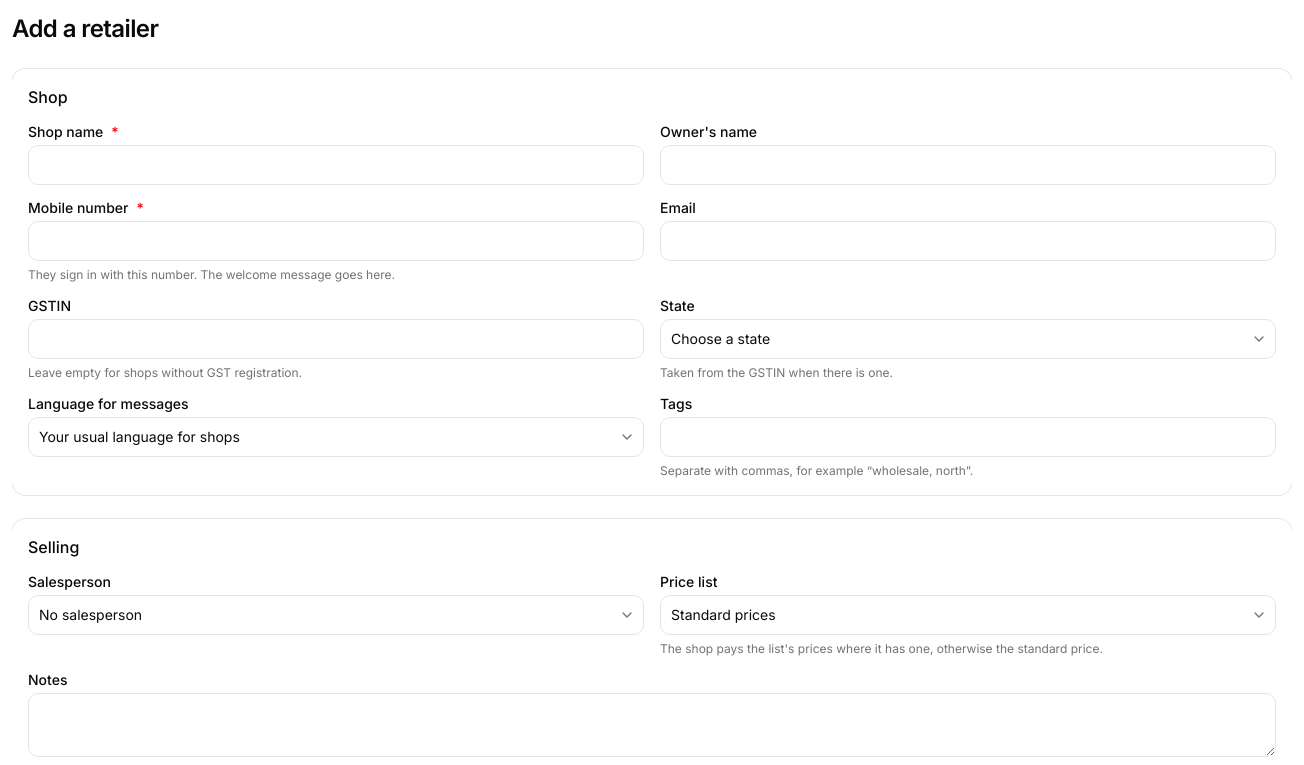
Test: Retailer form › creates a shop with its billing address and shows the server's GSTIN error
This screenshot has width=1304, height=765.
Type "Ganesh Kirana" into the field labelled "Shop name *" at (336, 165), box [28,145,644,185]
Type "98765 00001" into the field labelled "Mobile number *" at (336, 241), box [28,221,644,261]
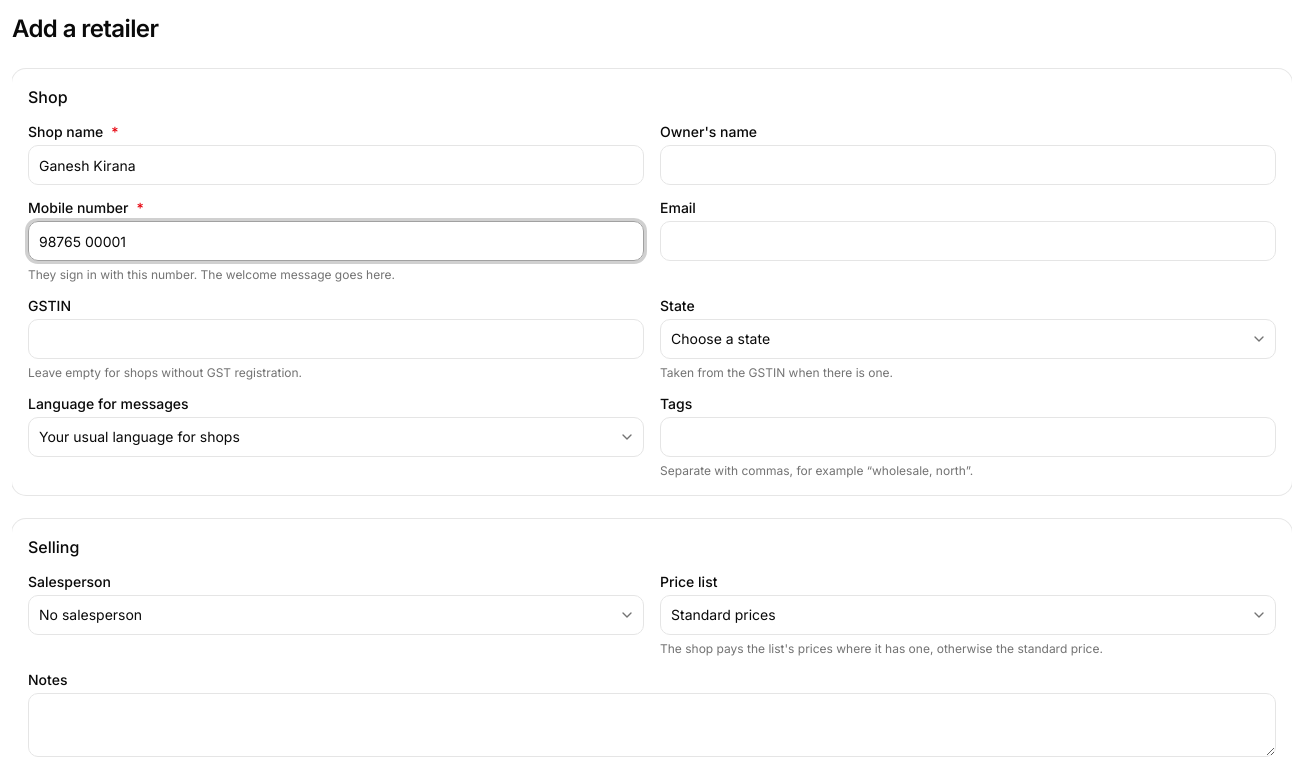
Type "27aapfu0939f1zv" into the field labelled "GSTIN" at (336, 339), box [28,319,644,359]
(page scrolled)
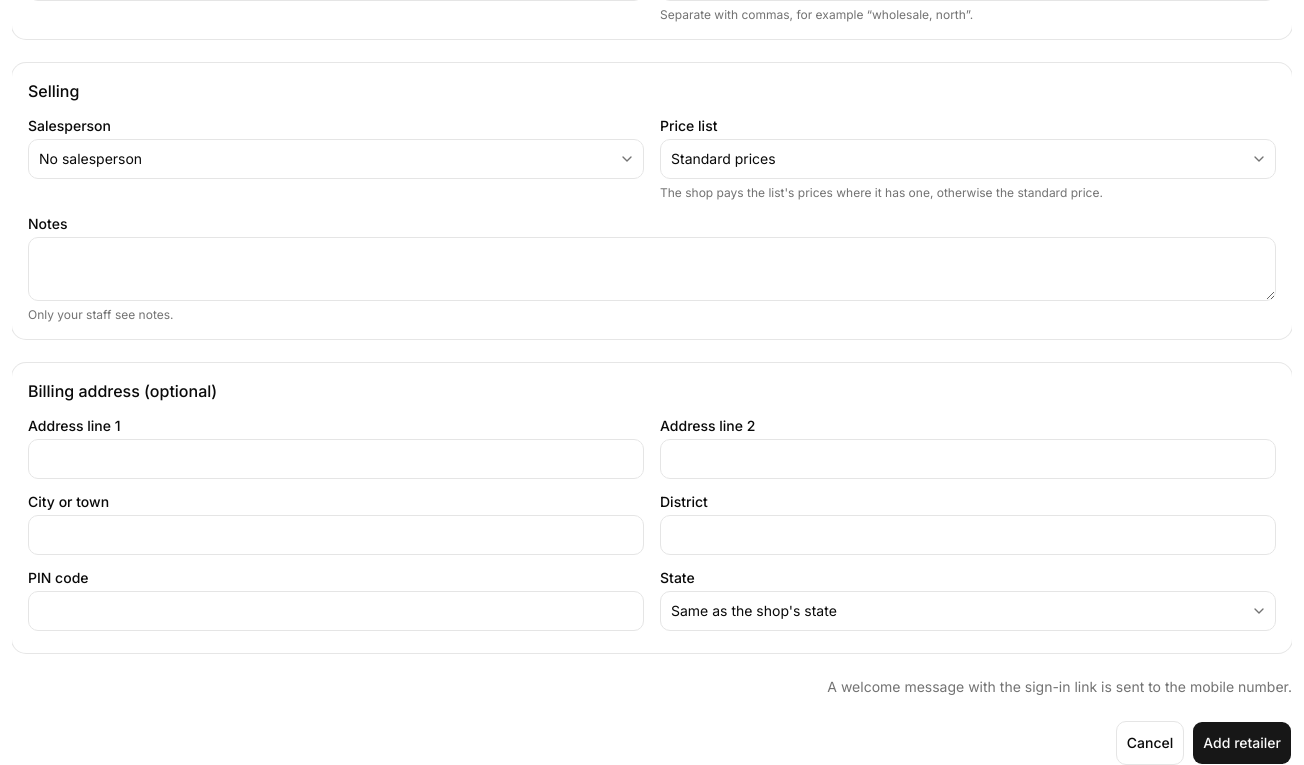
Type "Shop 4, Market Road" into the field labelled "Address line 1" at (336, 459), box [28,439,644,479]
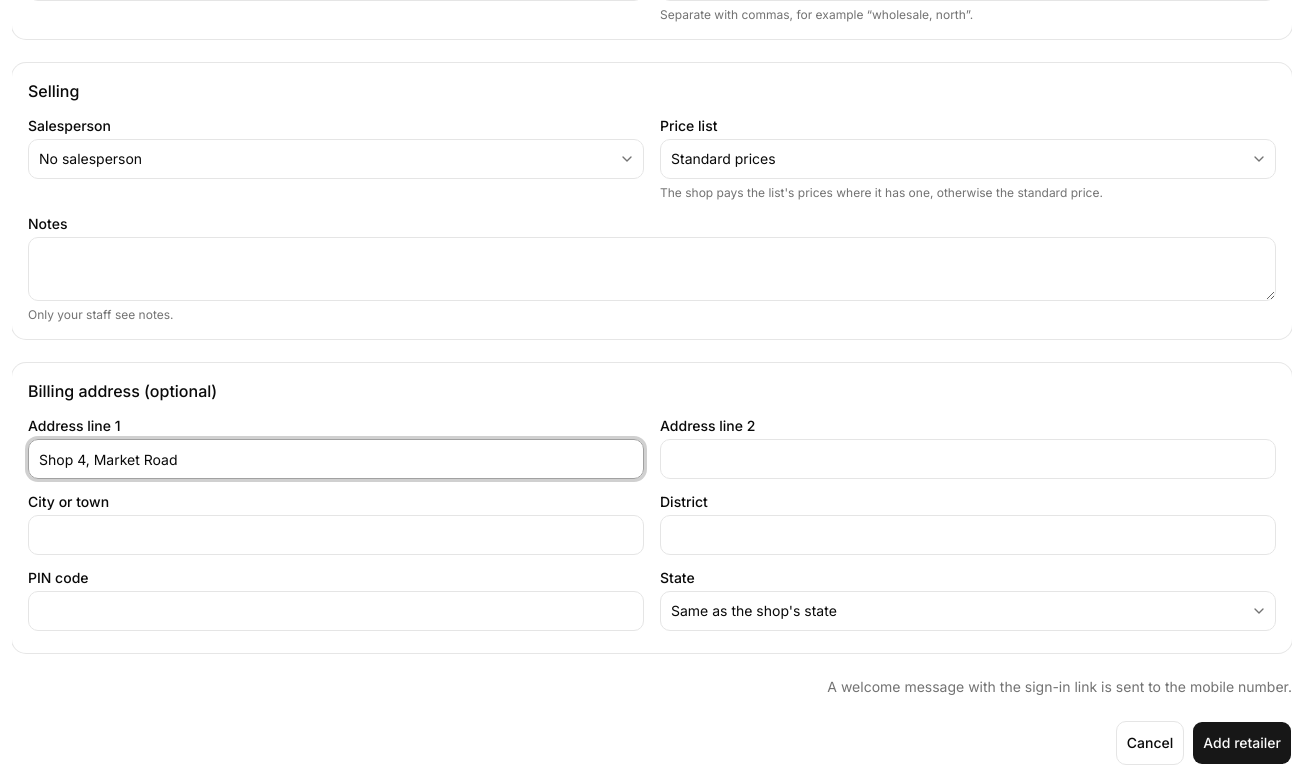
Type "Pune" into the field labelled "City or town" at (336, 535), box [28,515,644,555]
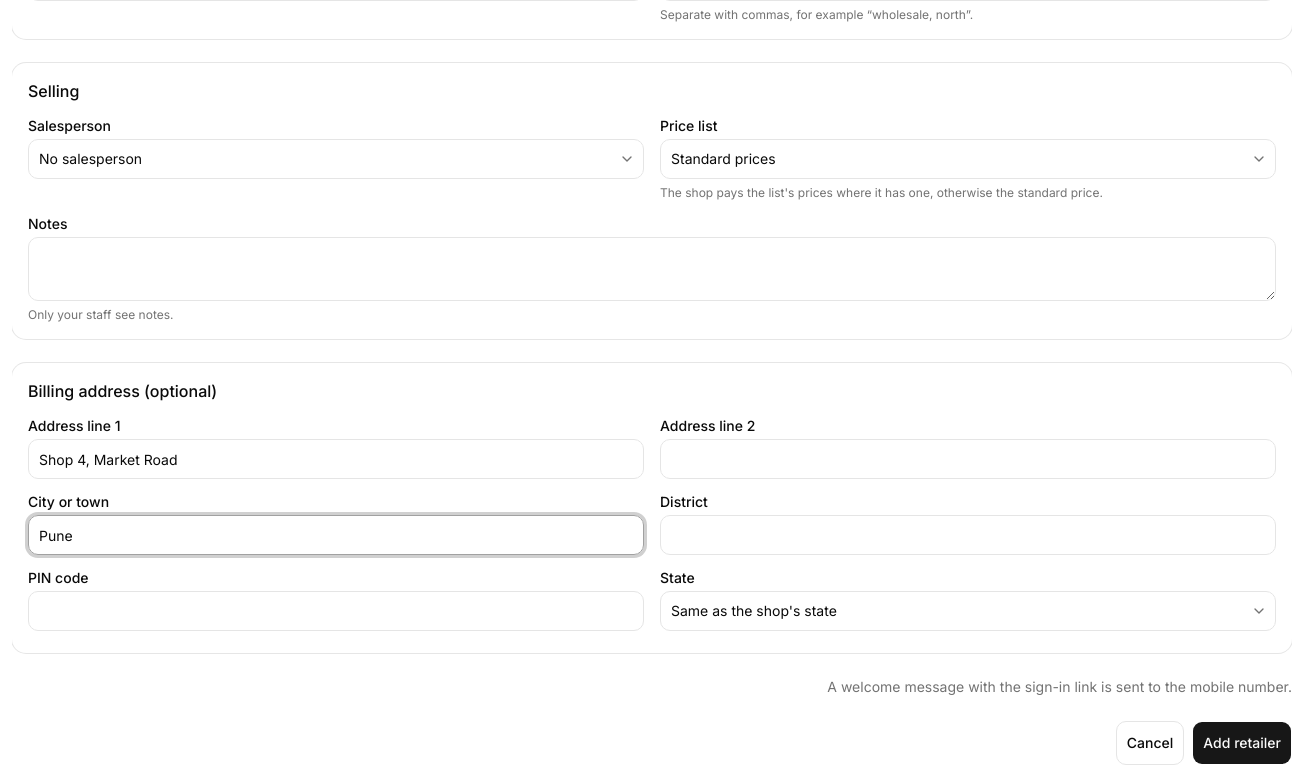
Type "411001" into the field labelled "PIN code" at (336, 611), box [28,591,644,631]
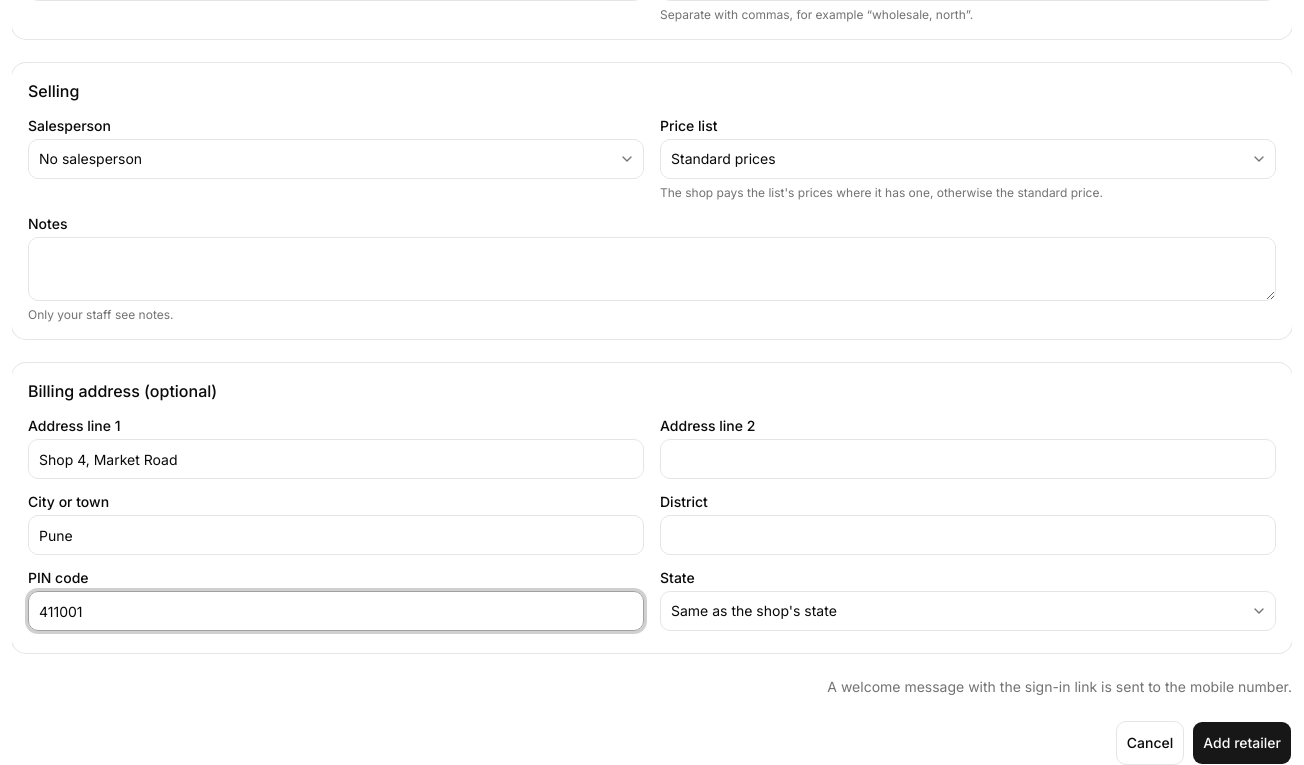
Click the button "Add retailer" at (1242, 743), box [1192,721,1292,764]
(page scrolled)
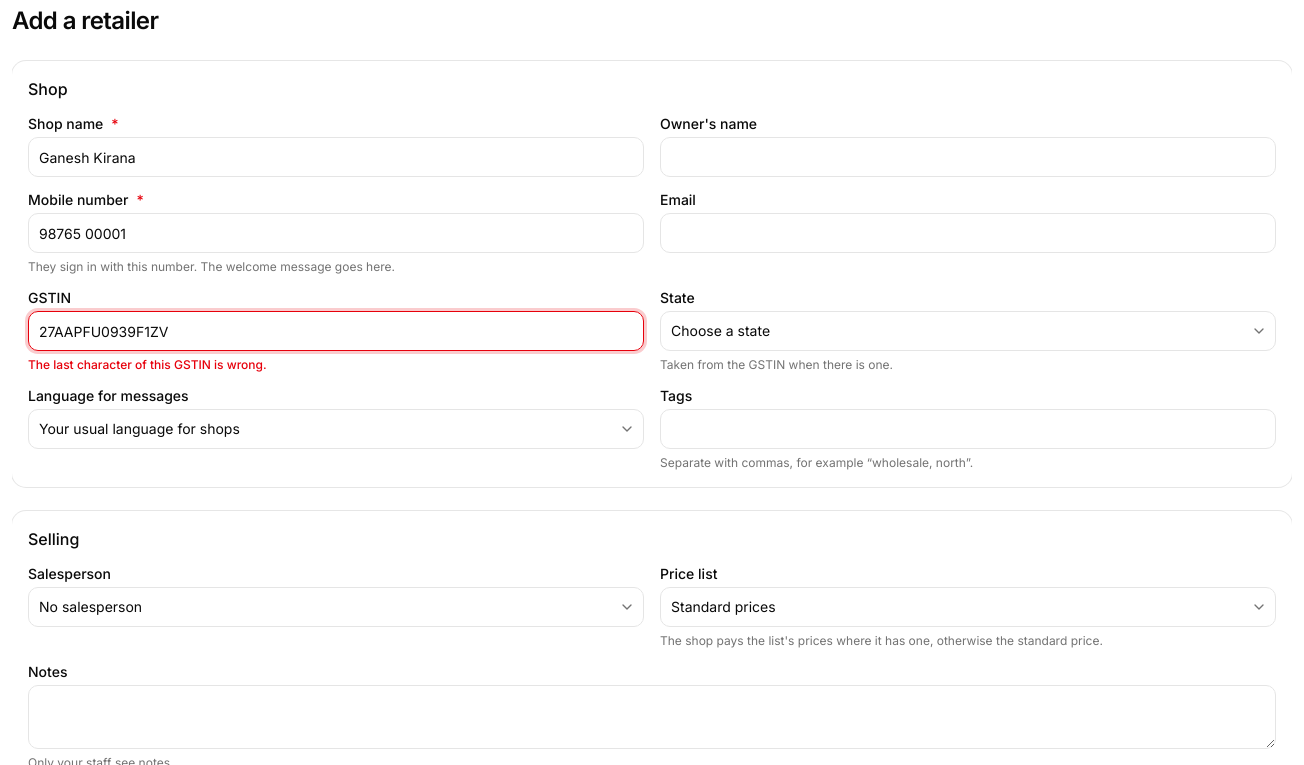
Result: the text "The last character of this GSTIN is wrong." is shown at [28,357,267,372]
